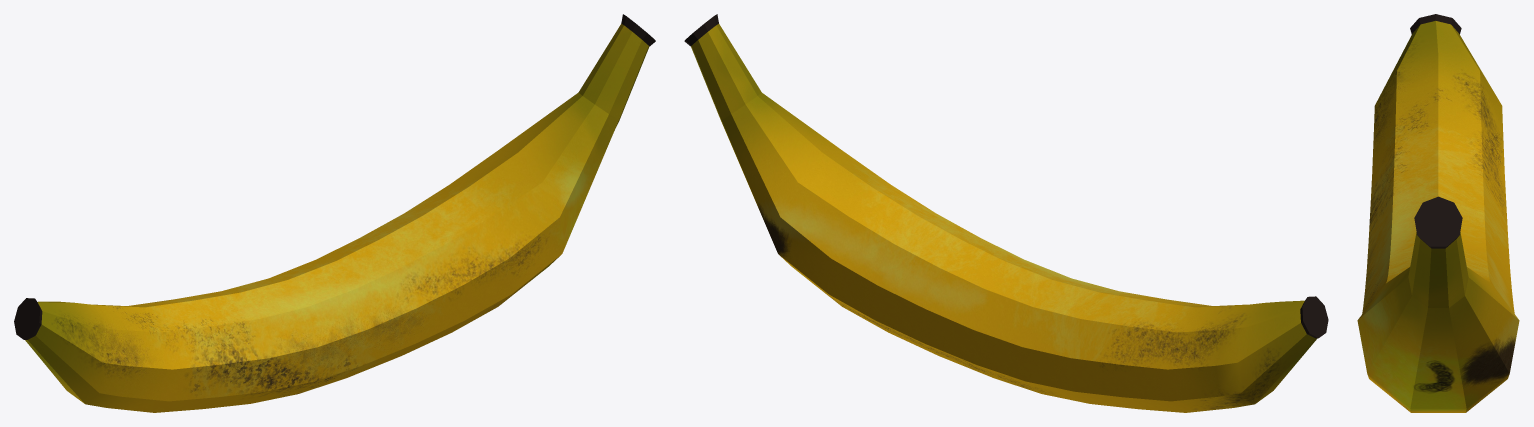
Rendered from ripe_banana.glb.
3 views of the same model, side by side, from view 1: azimuth 30°, elevation 25°; view 2: azimuth 150°, elevation 25°; view 3: azimuth 270°, elevation 25° (orthographic). The views are drawn at different scales.
Visible parts, largest first — view 1: pCylinder1; view 2: pCylinder1; view 3: pCylinder1.
Part boxes in pixels (x1=…): pCylinder1: x1=14, y1=14, x2=655, y2=412; pCylinder1: x1=684, y1=14, x2=1328, y2=412; pCylinder1: x1=1357, y1=14, x2=1519, y2=412.
Bounding box in the file's own units: 10.68 × 4.64 × 1.97.
1 material, 1 textured.
